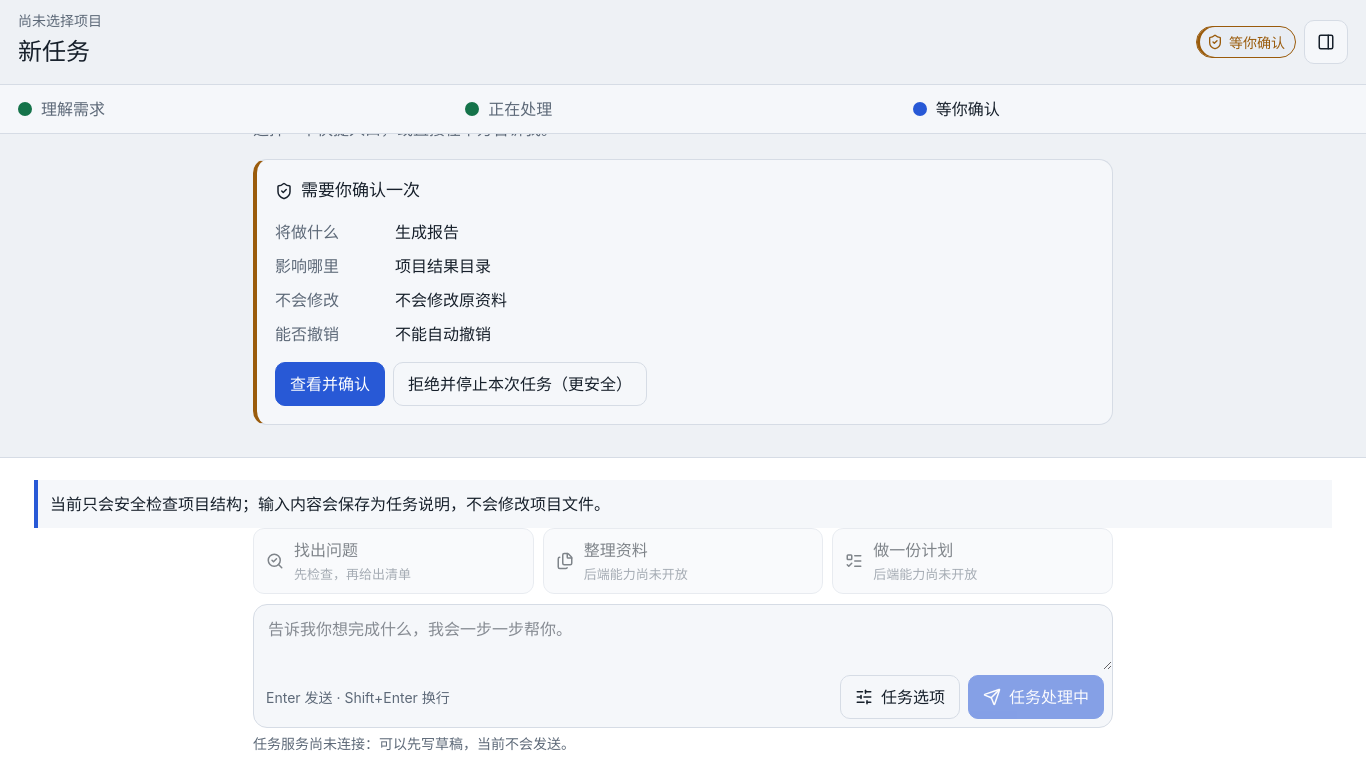
Test: TasksPage › keeps approval confirmation focus inside the dialog and restores it on Escape
The image size is (1366, 768).
(page scrolled)
Click the button "查看并确认".
click(330, 384)  # box left=275, top=362, right=385, bottom=406
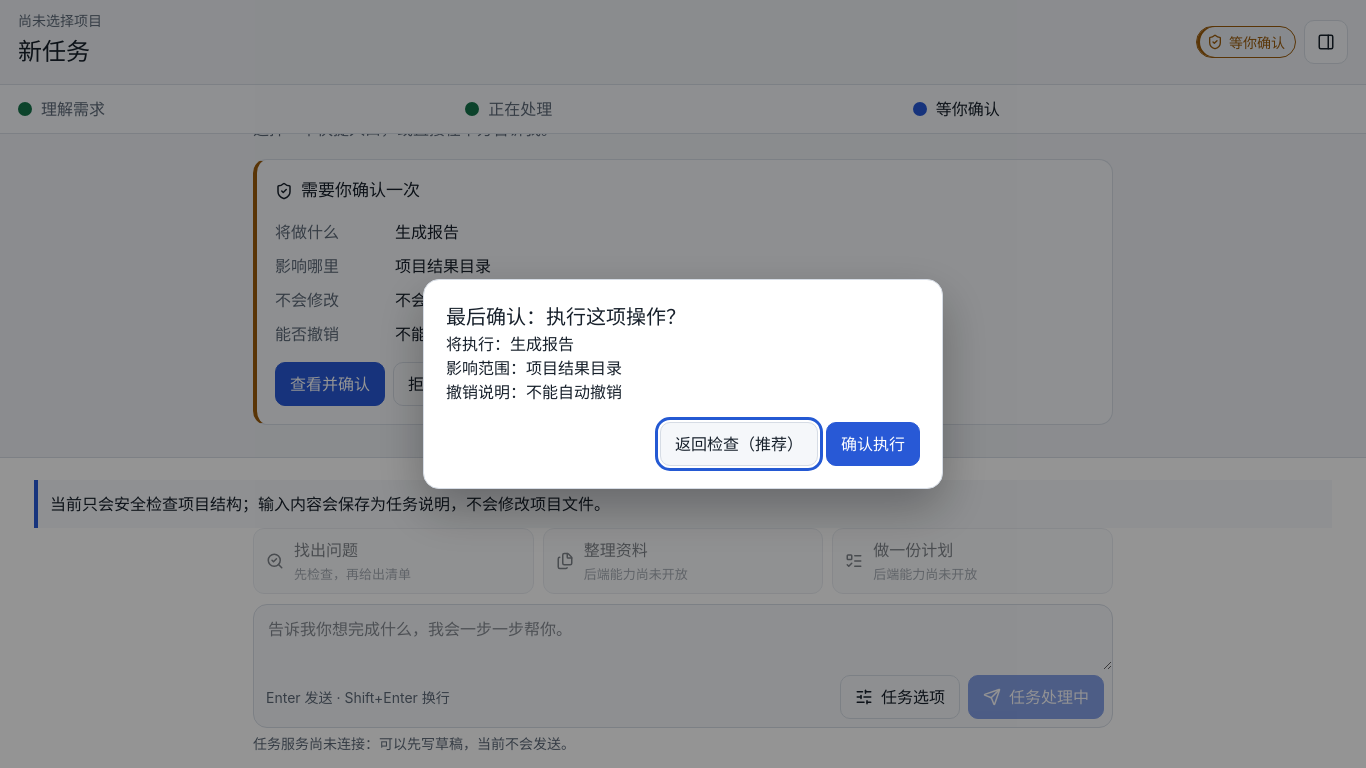
Press Escape
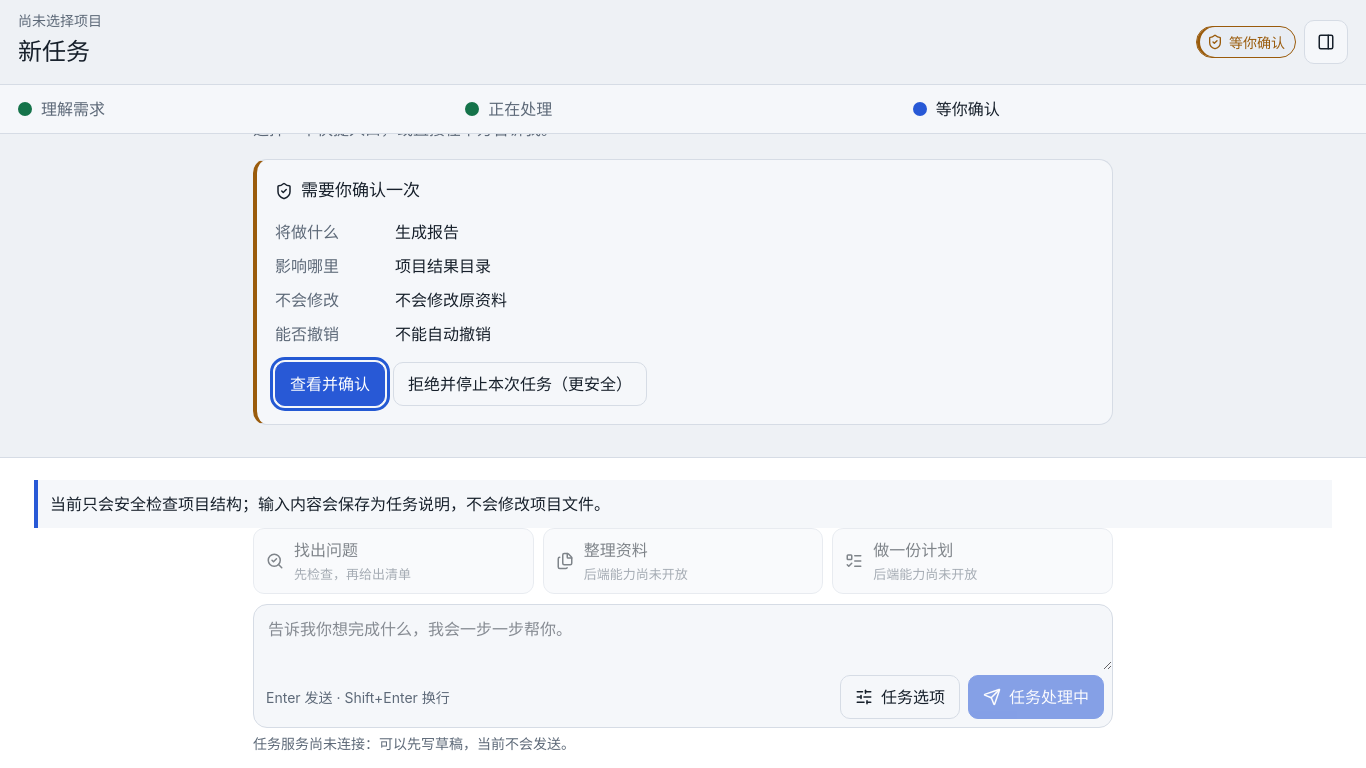
Check: the heading "最后确认：执行这项操作？" is gone
